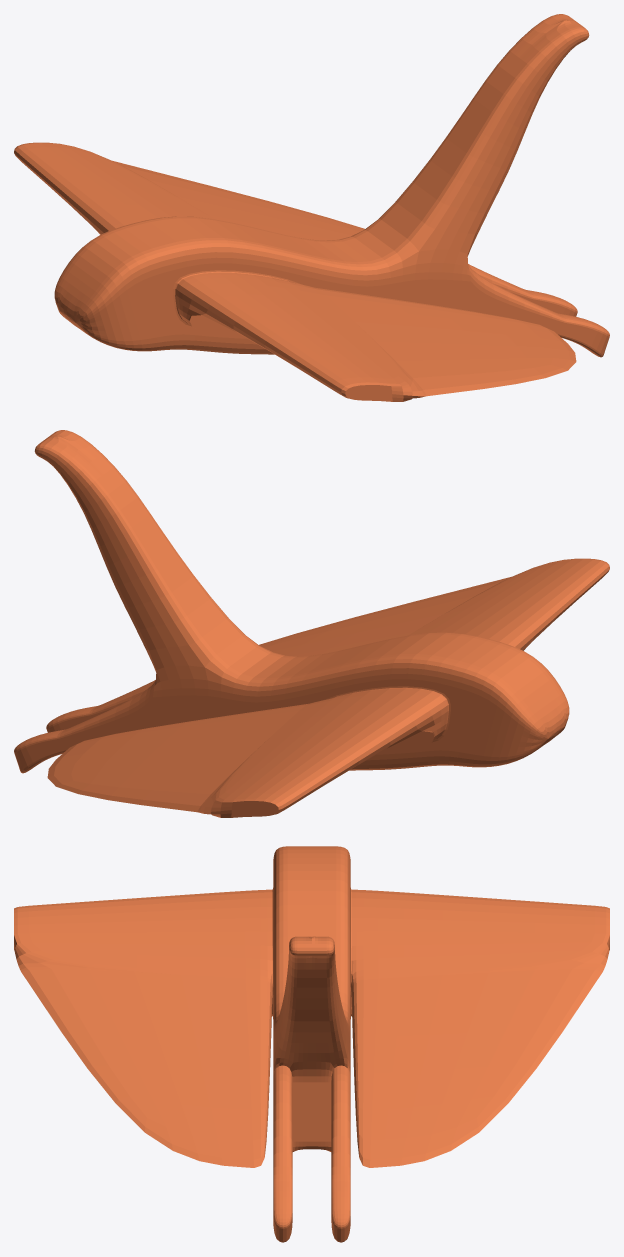
Rendered from flyingSquirrel.fbx.
3 views of the same model, one above another, from view 1: azimuth 30°, elevation 25°; view 2: azimuth 150°, elevation 25°; view 3: azimuth 270°, elevation 25° (orthographic). The views are drawn at different scales.
Visible parts, largest first — view 1: Plane; view 2: Plane; view 3: Plane.
Boxes of the visible parts, bbox=[...] form: Plane: bbox=[14, 14, 609, 401]; Plane: bbox=[14, 430, 609, 817]; Plane: bbox=[14, 846, 609, 1242].
Bounding box in the file's own units: 312 × 186 × 340.
